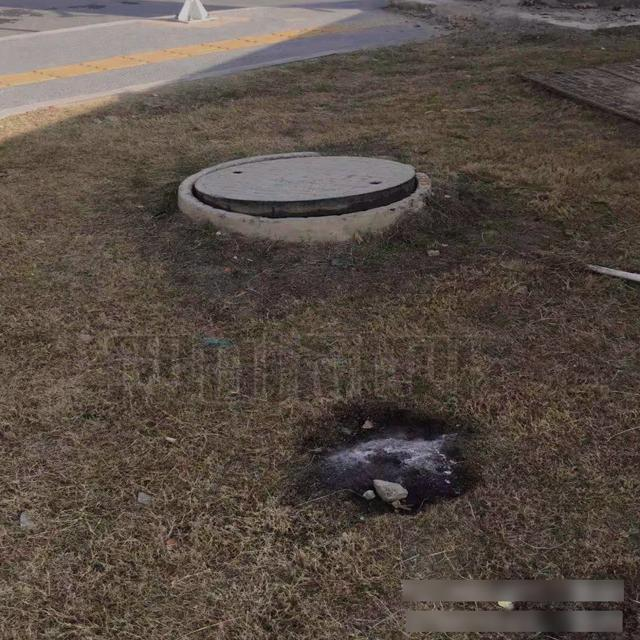uncovered: (181, 151, 431, 228)
